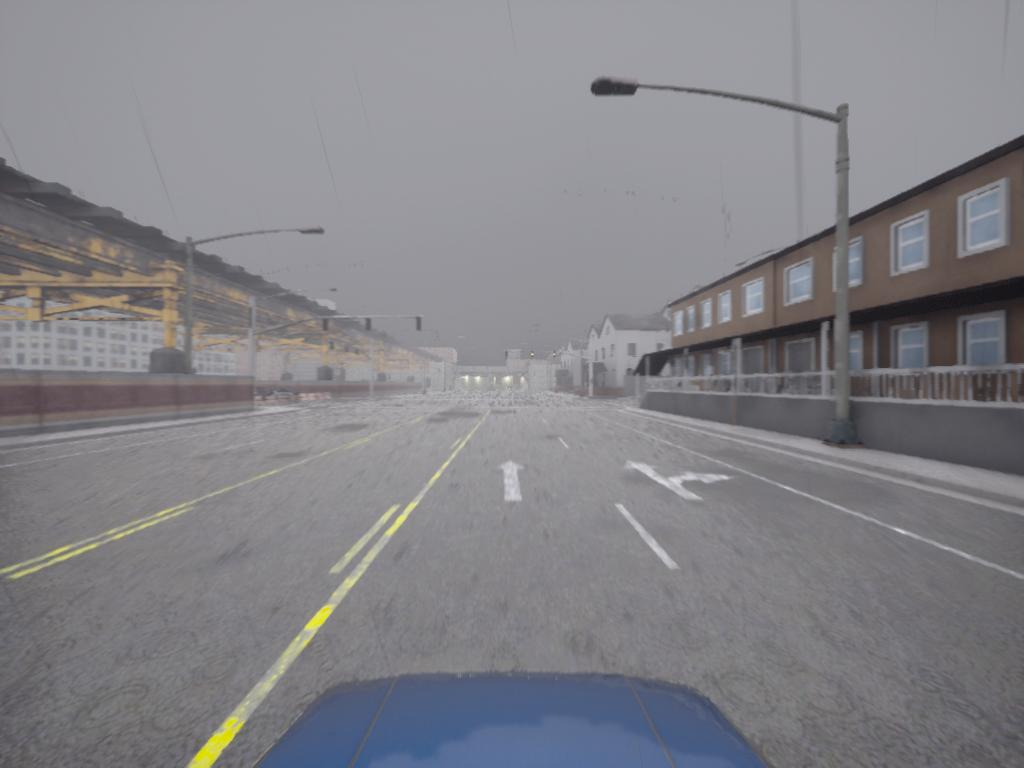traffic_light: (323, 319, 330, 334), (416, 318, 422, 334), (366, 318, 372, 333), (531, 351, 535, 364), (553, 352, 558, 362), (506, 352, 510, 362)
